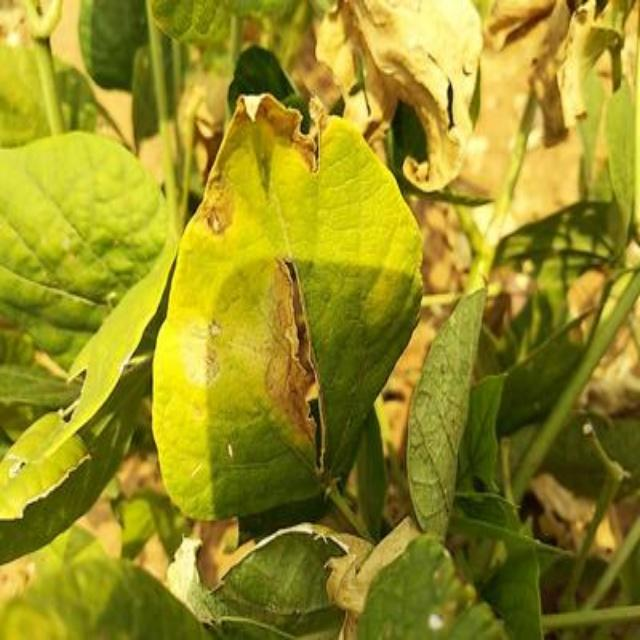leaf_curl: (115, 77, 452, 549)
